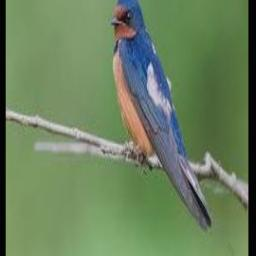Swallow: (110, 0, 212, 230)
